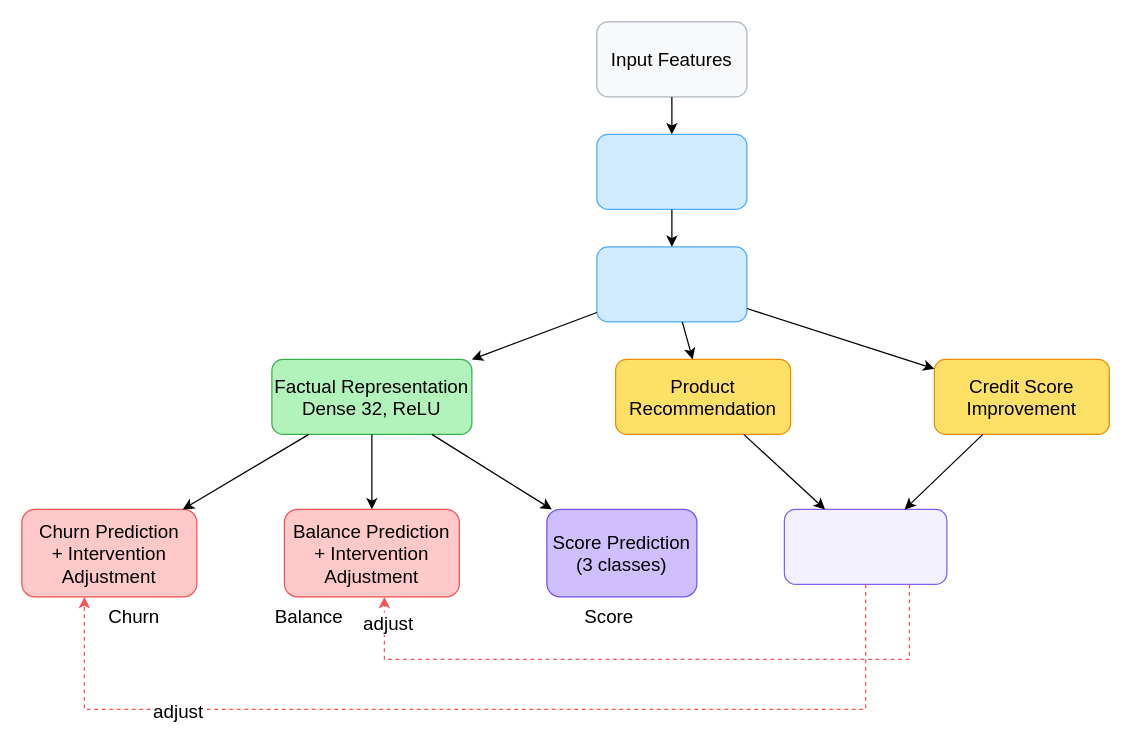
The diagram is 1131 pixels wide and 744 high, and some of its shapes have lost their labels. Here are the shapes that lost their labels. From the top down, the centre of each, then its label:
At [671,171]: "Dense 128 + BN + Dropout ReLU".
At [671,284]: "Dense 64 + BN ReLU".
At [865,546]: "Concatenate Interventions".
